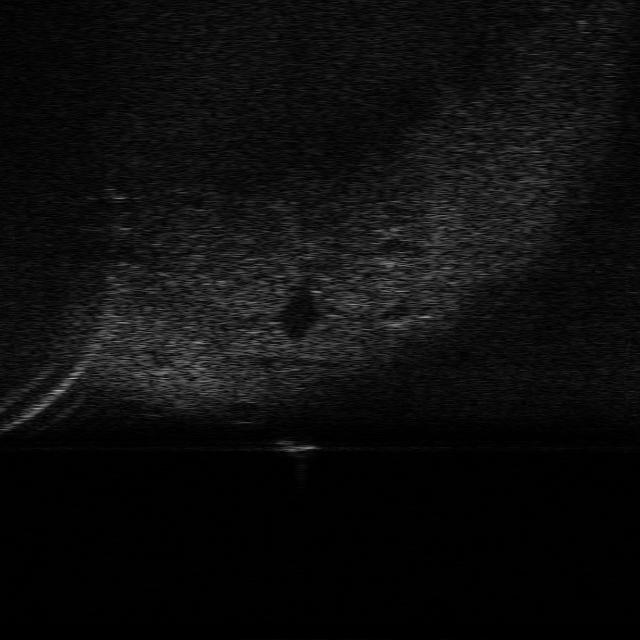cube: (276, 436, 328, 453)
